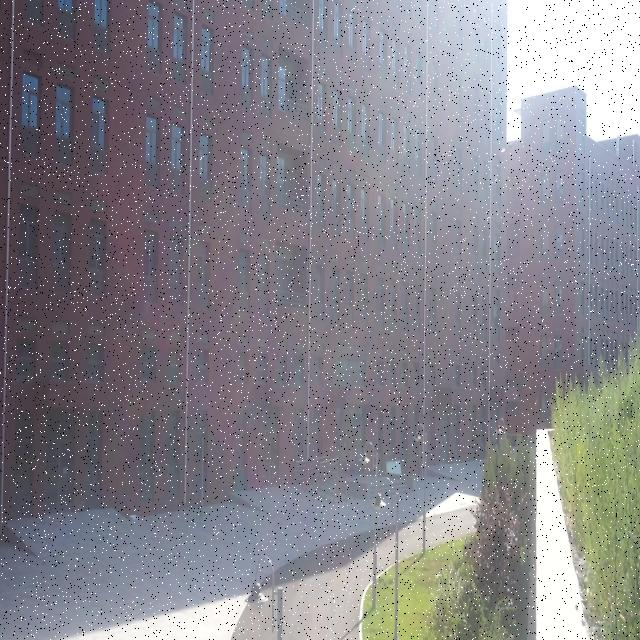UAV: (502, 139, 518, 153)
